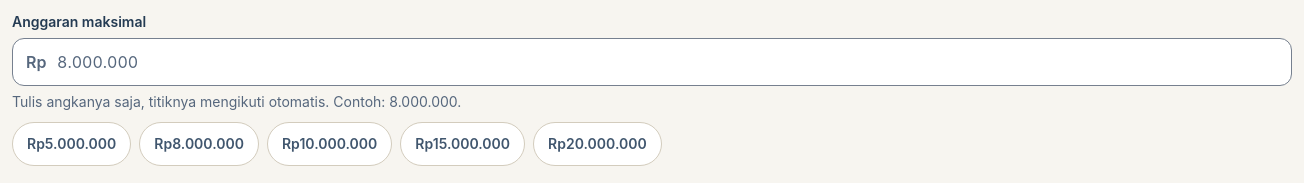
it: BudgetField › groups digits as you type
The width and height of the screenshot is (1304, 183).
Step 1. Type "8000000" into the field labelled "Anggaran maksimal" → (652,62), box [12, 38, 1292, 86]
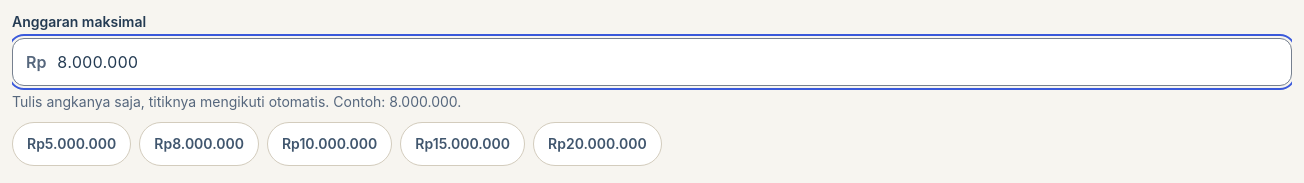
Result: the field labelled "Anggaran maksimal" holds "8.000.000" at [12, 38, 1292, 86]
